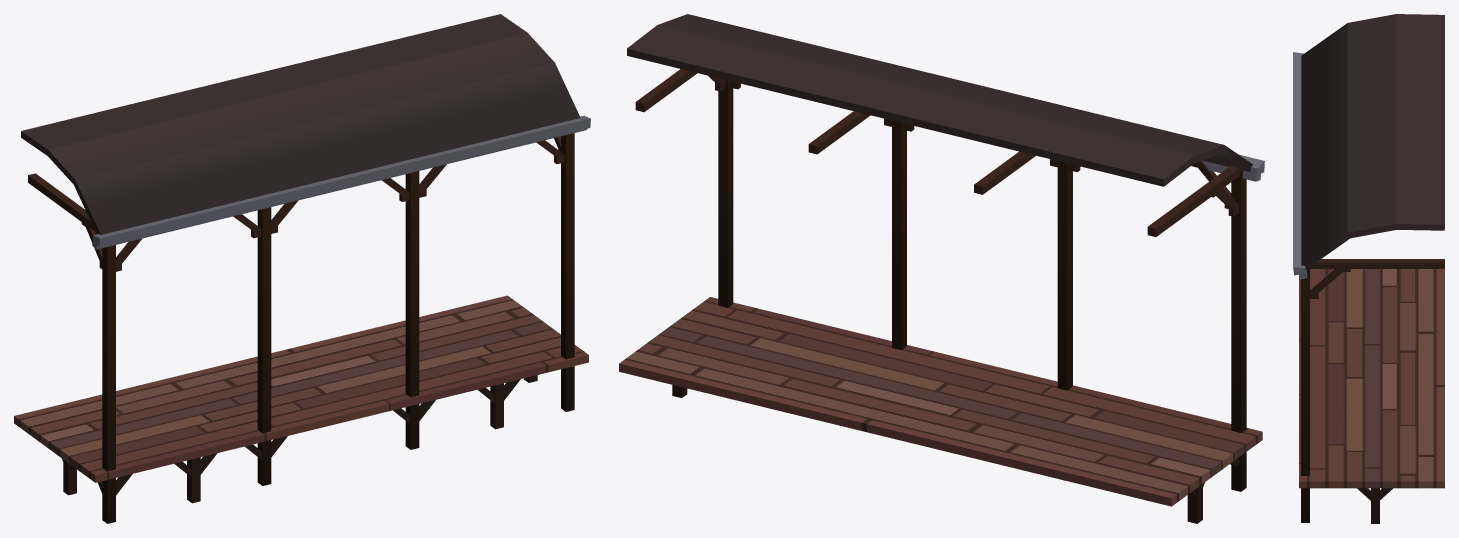
File: Deck 7M v04.glb
3 renders of one model, left to right at view 1: azimuth 30°, elevation 25°; view 2: azimuth 150°, elevation 25°; view 3: azimuth 270°, elevation 25°, orthographic. The views are drawn at different scales.
Visible parts, largest first — view 1: Deck 7M v04; view 2: Deck 7M v04; view 3: Deck 7M v04.
Part boxes in pixels (<box>): Deck 7M v04: <box>14,14,590,523</box>; Deck 7M v04: <box>619,14,1264,523</box>; Deck 7M v04: <box>1293,14,1444,523</box>.
Size of what is drawn, in the model's own units: 7 by 4.56 by 2.08.
Materials: 2 (2 with a texture image).
